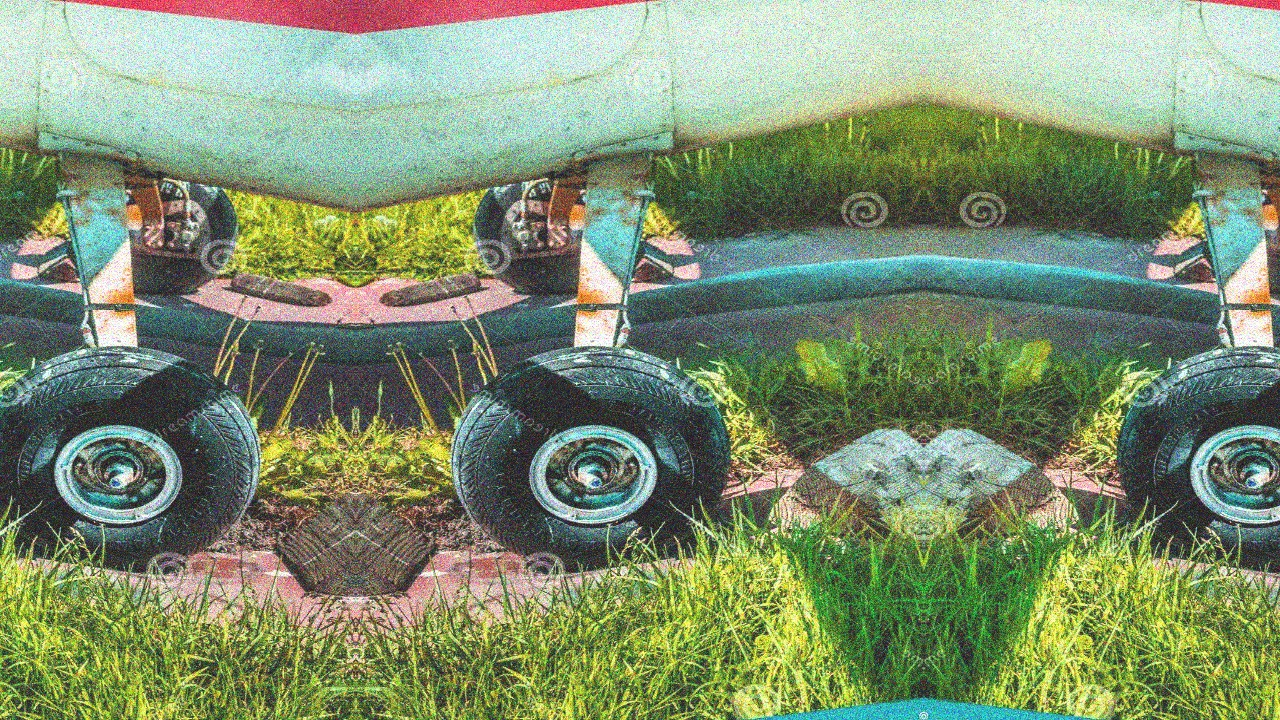chock: (753, 407, 924, 556), (924, 407, 1095, 556), (264, 474, 356, 616), (356, 474, 447, 616), (33, 229, 89, 288), (622, 229, 678, 288), (1170, 229, 1226, 288)
wheel: (437, 331, 749, 578), (0, 331, 274, 578), (1099, 331, 1280, 578), (122, 175, 243, 300), (468, 175, 589, 300), (1259, 175, 1280, 300)
